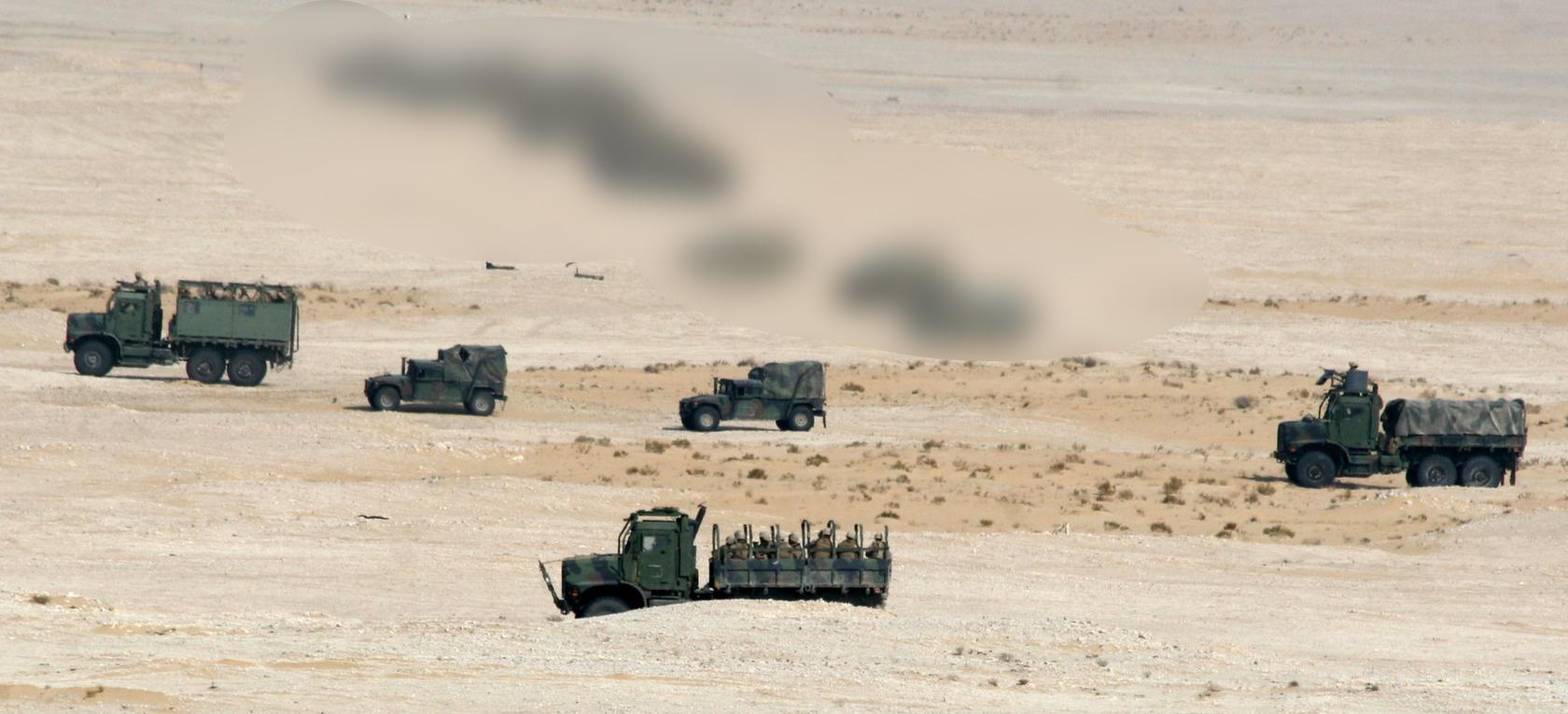armored_car: (677, 363, 833, 435), (358, 346, 510, 417)
truck: (541, 504, 897, 620), (1273, 363, 1529, 490), (64, 276, 303, 387)
